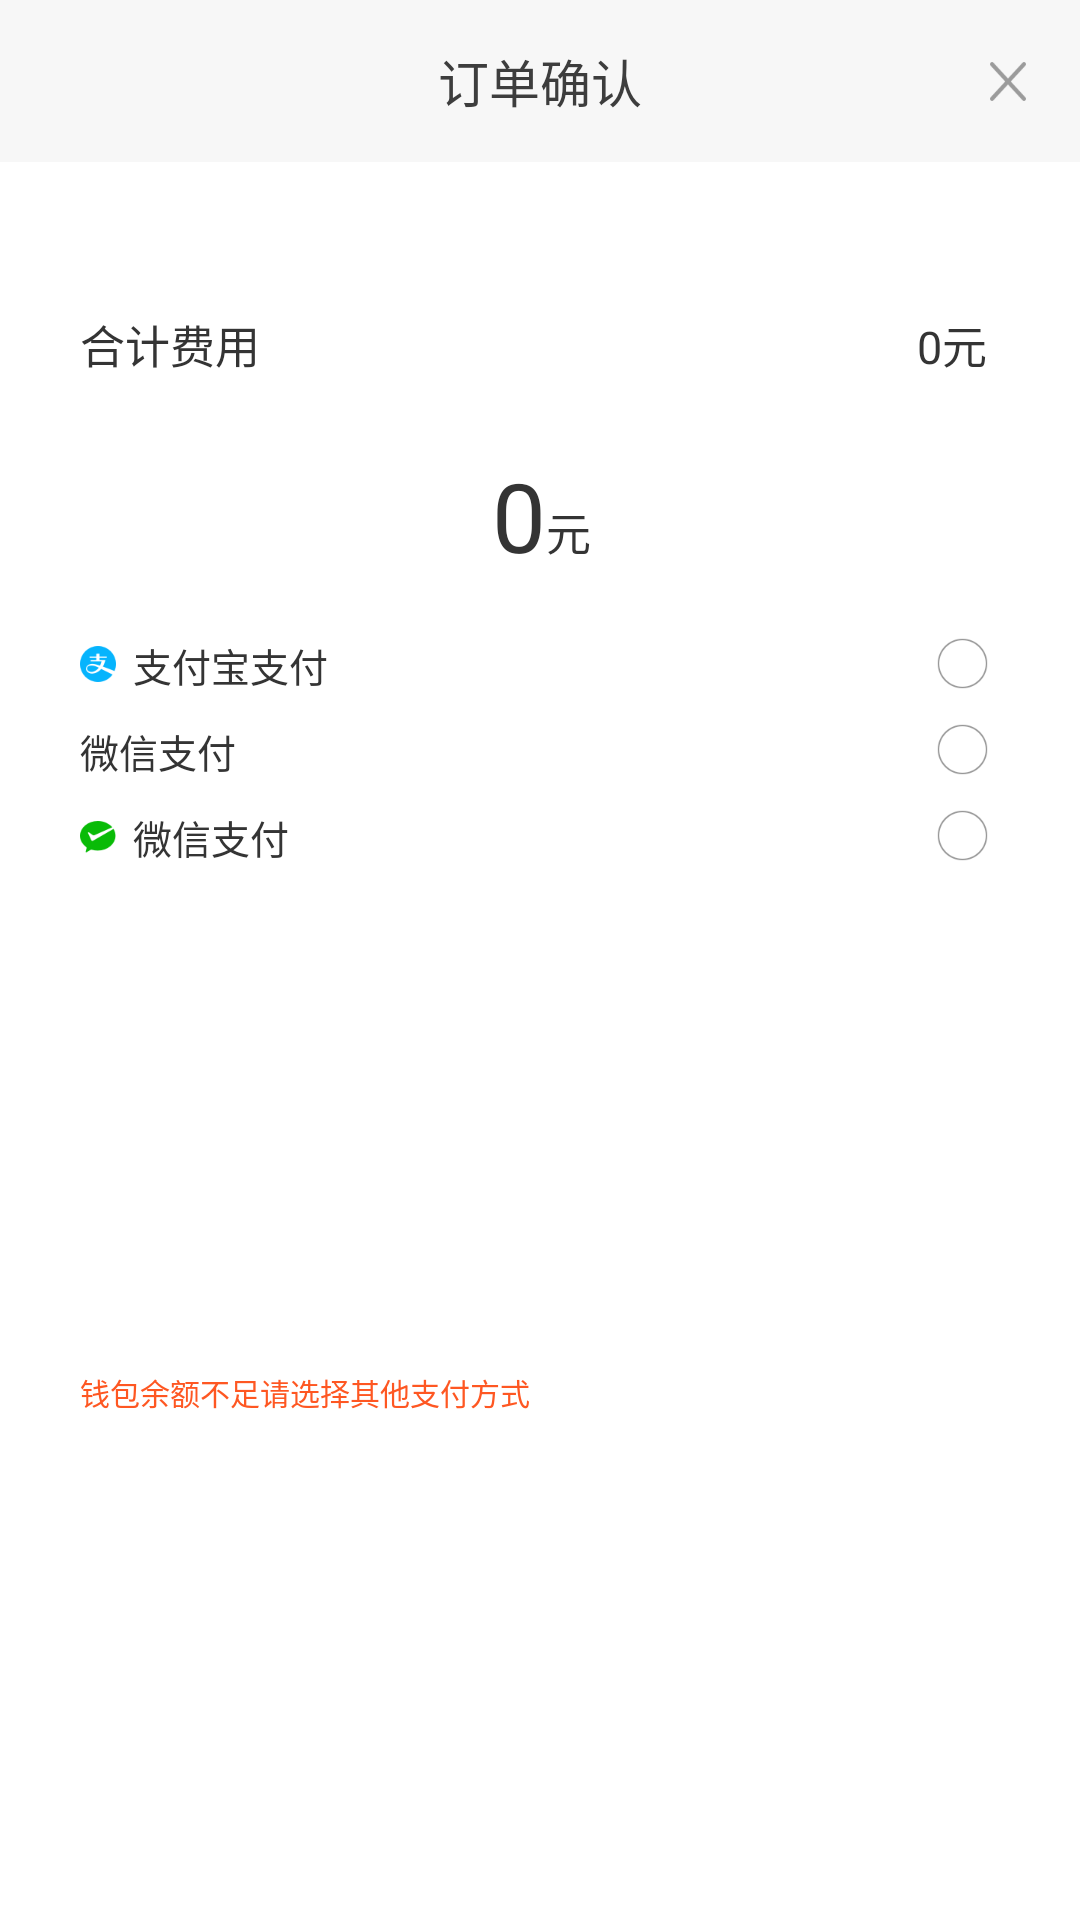

Point at icon controls on the screen. Image size 1080w x 1920h, points as [x,y].
pay bottom dialog close: [1008,81]
